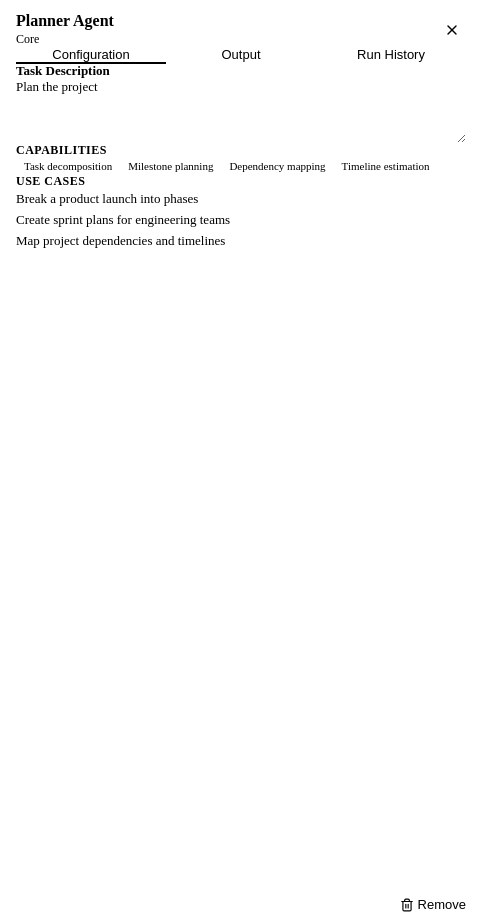
Scenario: NodeConfigPanel › switches to output tab
Click the tab "Output": [241, 56] box [166, 47, 316, 64]
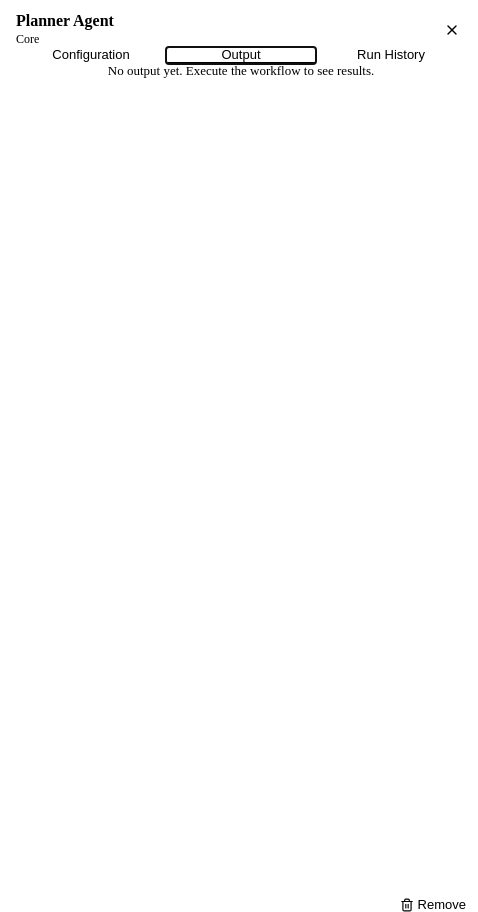
Expected: the text "No output yet. Execute the workflow to see results." is shown, [108, 63, 374, 78]
